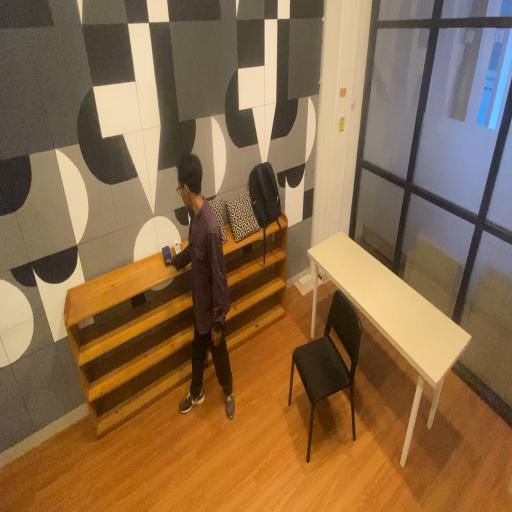bantal: (226, 192, 260, 246)
hp: (159, 244, 174, 273)
kursi: (284, 286, 362, 464)
lemari: (60, 248, 192, 441)
remote AC: (174, 236, 183, 256)
tas ransel: (249, 159, 283, 232)
